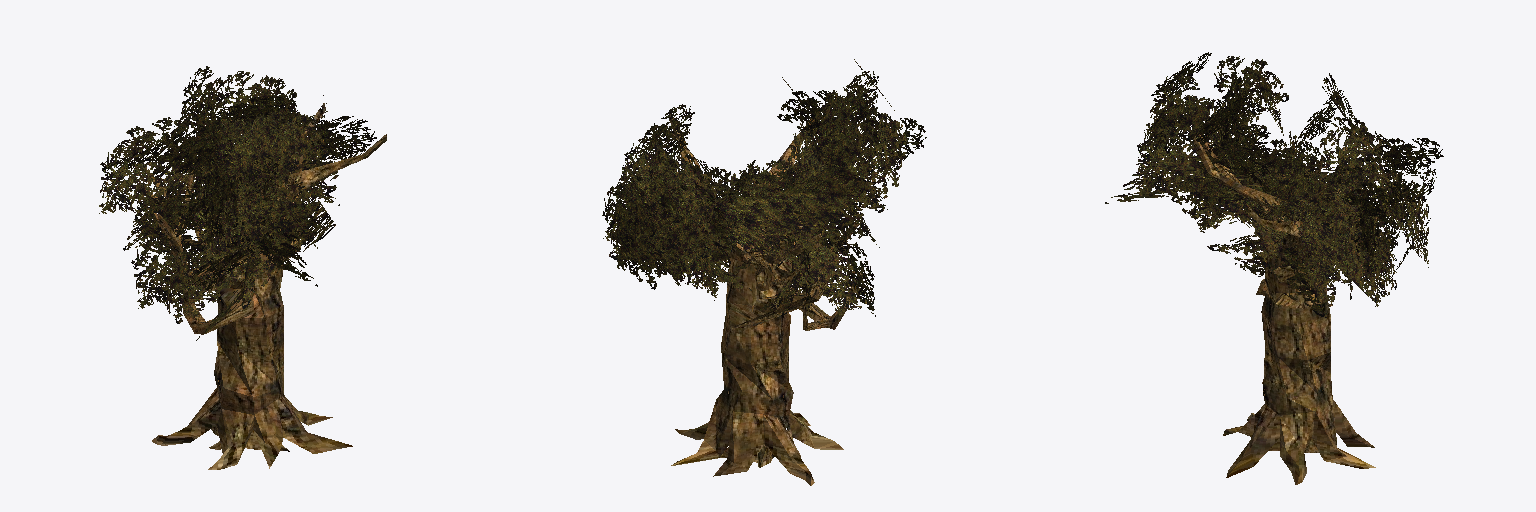
The picture shows the model from 3 angles: view 1: azimuth 30°, elevation 25°; view 2: azimuth 150°, elevation 25°; view 3: azimuth 270°, elevation 25°; orthographic projection.
Visible parts, largest first — view 1: Mesh_1, Mesh_0; view 2: Mesh_1, Mesh_0; view 3: Mesh_1, Mesh_0.
Part boxes in pixels (x1,y1,x2,y2): Mesh_1: (99, 66, 376, 340); Mesh_0: (136, 103, 386, 469); Mesh_1: (602, 59, 926, 316); Mesh_0: (655, 114, 862, 485); Mesh_1: (1105, 52, 1443, 317); Mesh_0: (1193, 133, 1375, 484).
Bounding box in the file's own units: 6.71 × 8.99 × 7.53.
2 materials, 2 textured.